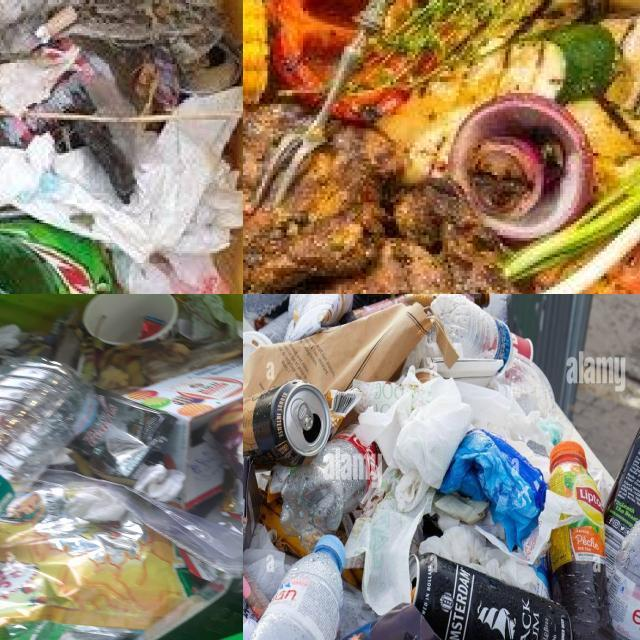Disposable: (243, 0, 640, 294)
Garbage: (243, 294, 640, 640), (0, 294, 243, 640)
Metal: (256, 0, 392, 209)
Plastic: (489, 352, 556, 417)
Plastic_Bag: (357, 369, 553, 489), (440, 429, 547, 550), (123, 434, 127, 438)
Plastic_bottle: (0, 358, 97, 513), (549, 442, 616, 640), (281, 432, 377, 546), (249, 534, 346, 640), (0, 217, 122, 294), (431, 294, 512, 362), (608, 520, 640, 640)
Plastic_wraper: (0, 470, 243, 640), (71, 389, 174, 478), (285, 294, 354, 340), (221, 469, 243, 518), (138, 315, 165, 339)
Tetrapack: (125, 357, 243, 507)
can: (409, 553, 572, 640), (243, 380, 331, 466), (604, 426, 640, 578)
